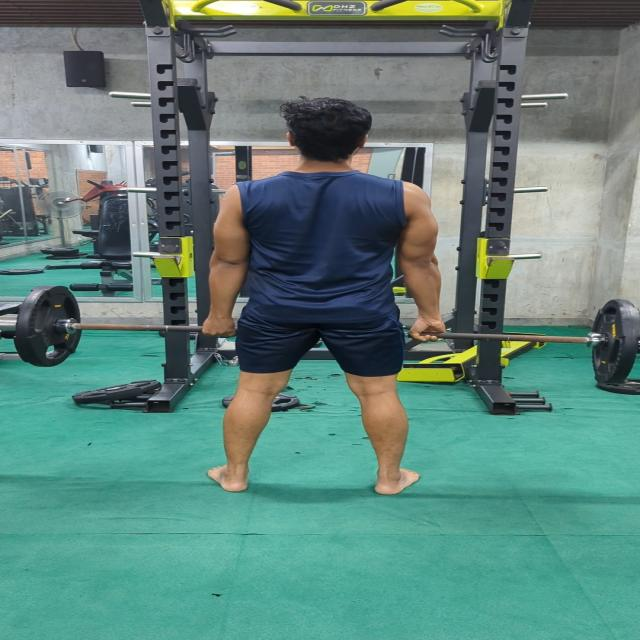Normal_Deadlifts: (202, 95, 446, 496)
